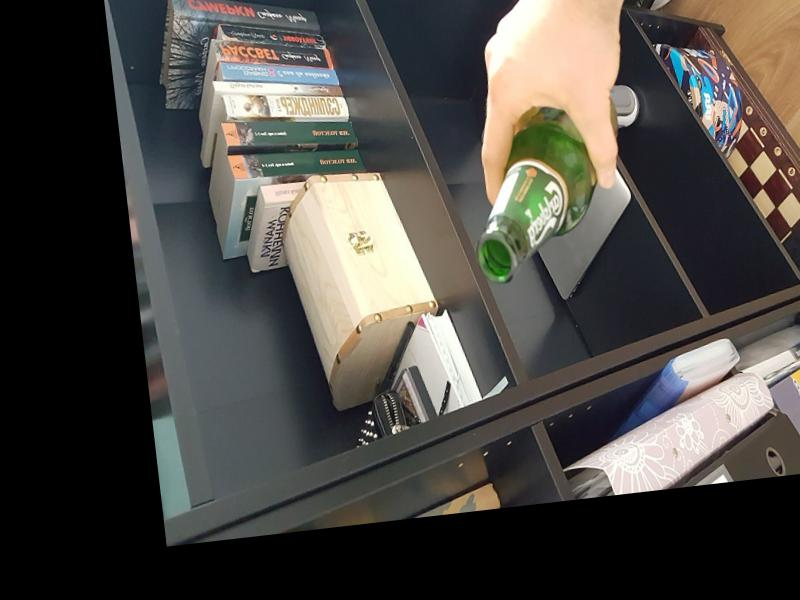Beer: (461, 87, 635, 286)
